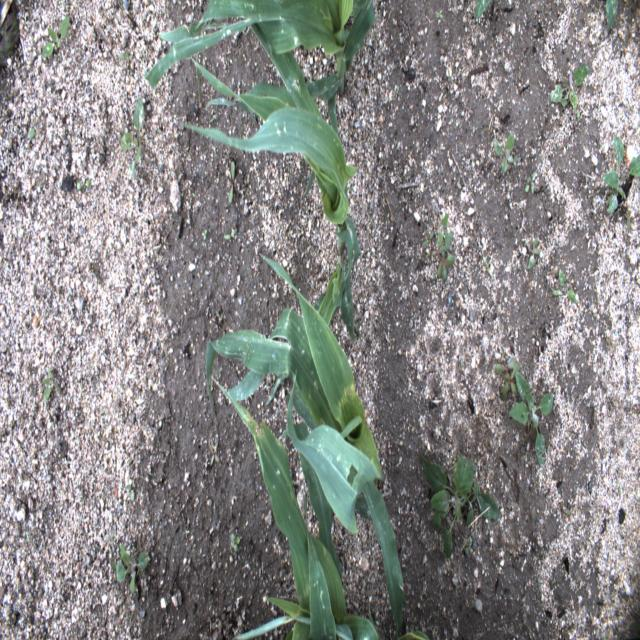crop: (206, 252, 404, 638), (177, 12, 359, 406), (144, 0, 378, 197), (212, 376, 382, 640)
weed: (422, 454, 500, 559), (509, 371, 554, 467), (602, 134, 640, 213), (119, 93, 144, 183), (550, 64, 590, 112), (116, 542, 150, 595), (0, 3, 20, 69), (41, 15, 70, 58), (495, 351, 520, 396), (551, 266, 579, 304), (494, 131, 518, 172), (432, 246, 455, 282), (42, 368, 62, 401), (437, 211, 454, 249), (225, 161, 237, 203), (525, 236, 540, 268), (606, 0, 618, 31), (474, 0, 490, 21), (524, 171, 537, 195), (209, 440, 220, 468), (421, 228, 435, 248), (482, 255, 492, 278), (230, 533, 240, 554), (560, 502, 570, 522), (223, 227, 238, 239), (125, 484, 135, 501), (76, 180, 92, 190), (465, 536, 473, 556), (434, 11, 444, 20), (203, 228, 207, 240)
